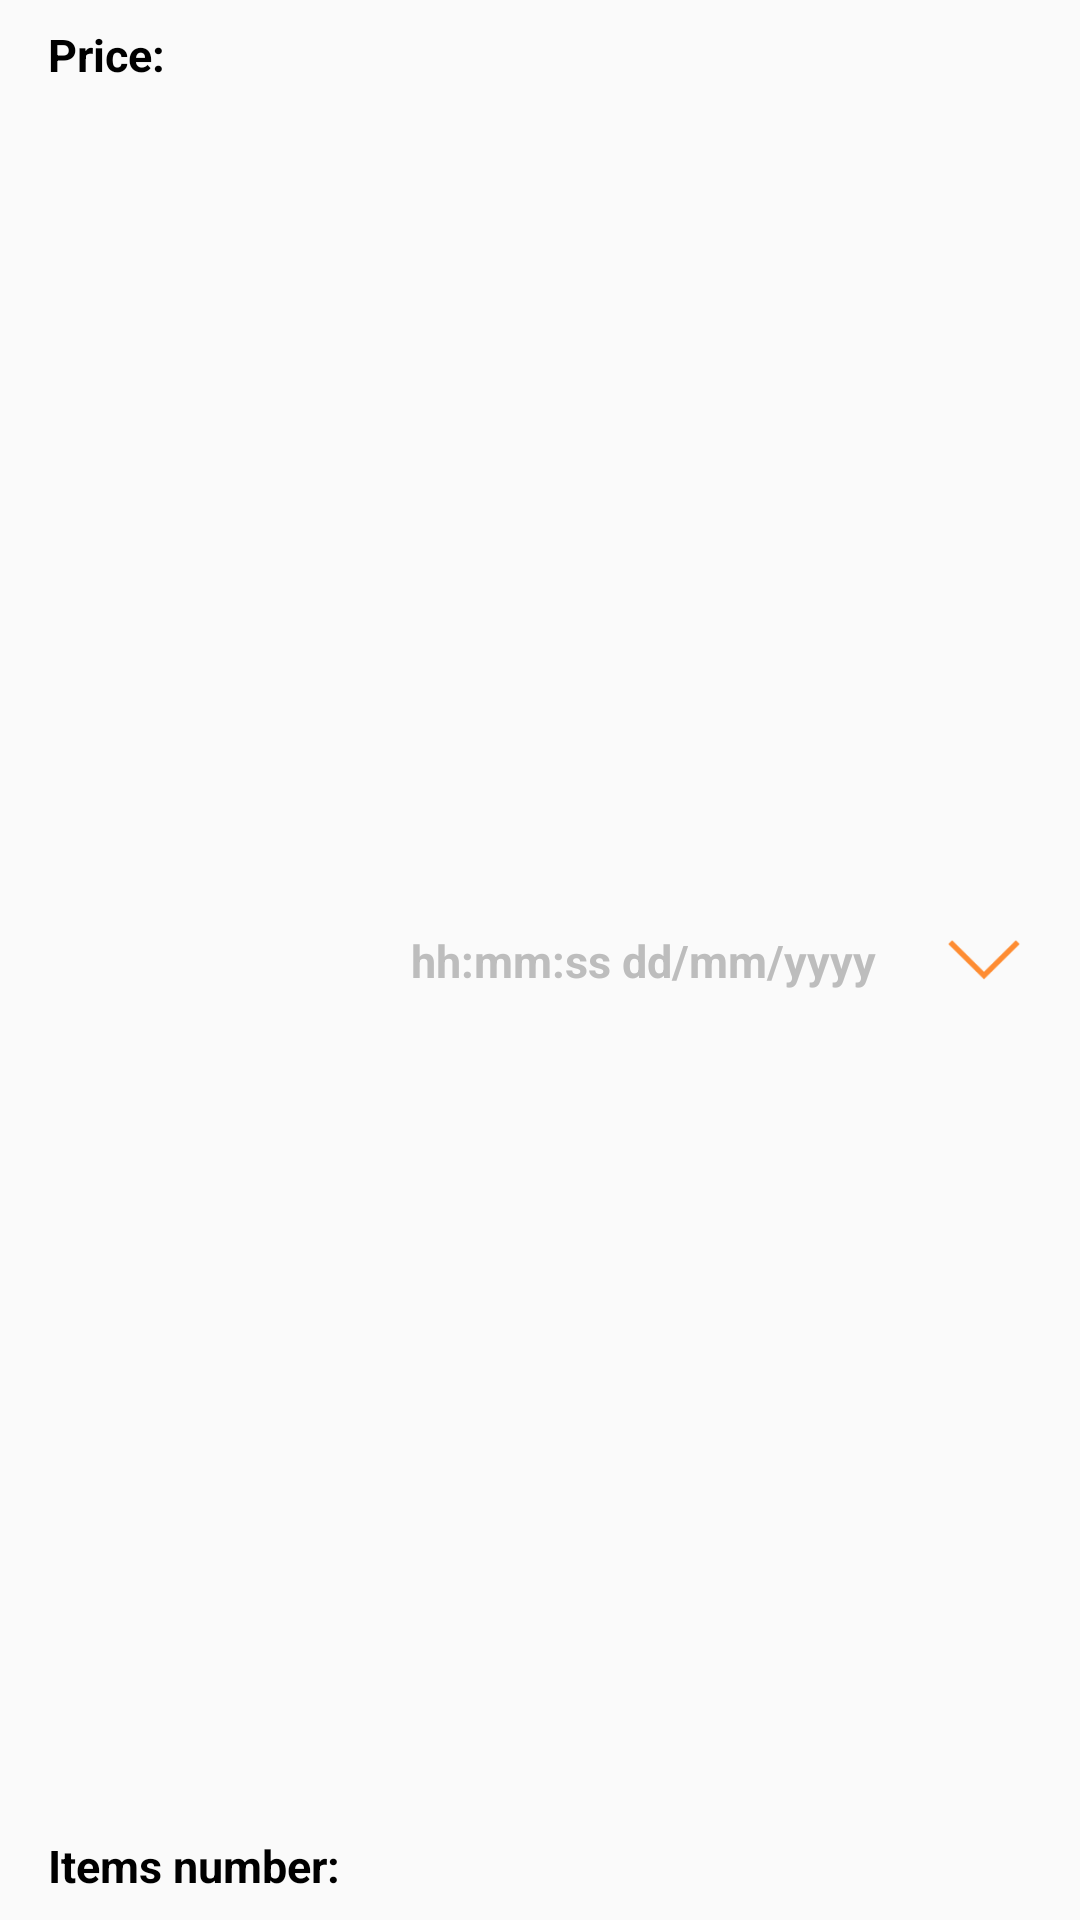

Icons on this 1080*1920 Android screen, each with its box as (x1, y1, x2, y2):
Expand / Collapse: (948, 940, 1020, 979)
